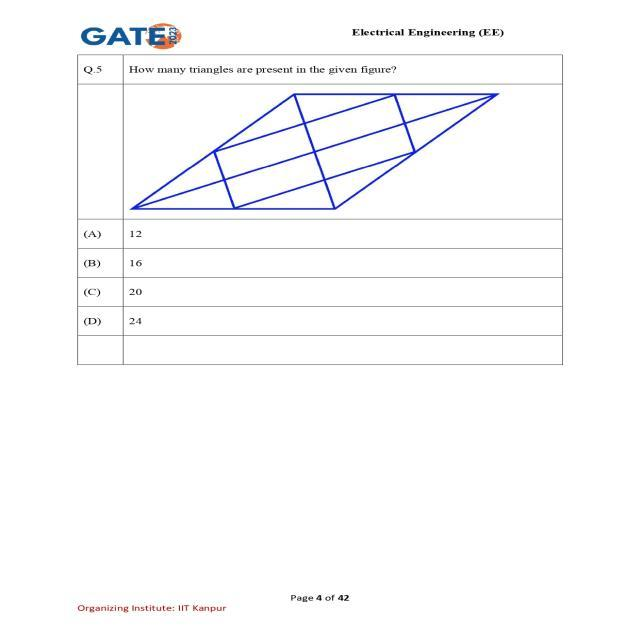Answer_Block: (47, 229, 599, 403)
Question_Answer_Block: (47, 55, 599, 404)
Question_Block: (47, 55, 599, 225)
Question_Paper_Area: (47, 55, 599, 404)
